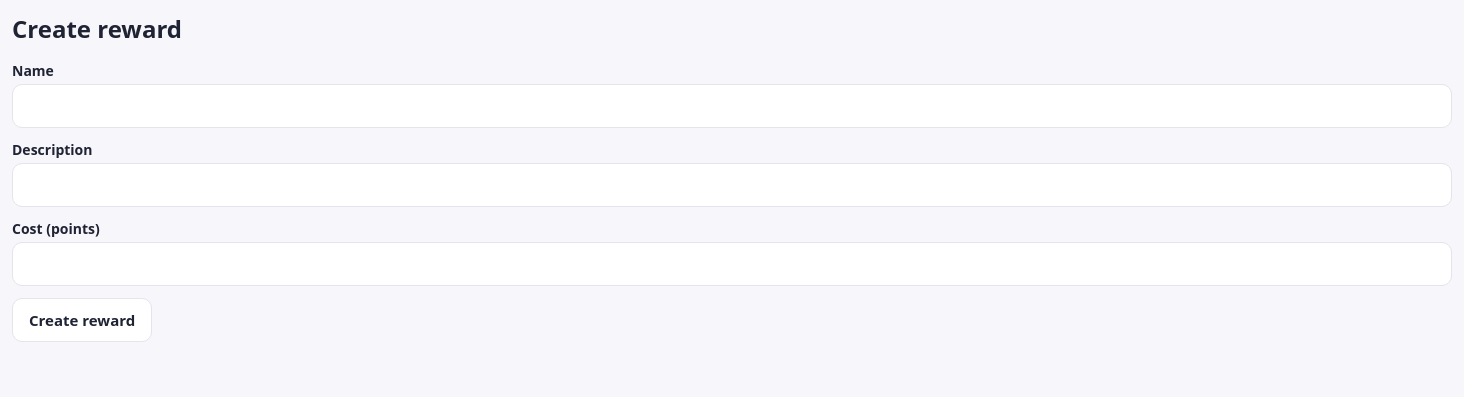
Test: NewRewardPage › requires a name before submitting
Step 1. Click the button "Create reward" → (82, 320), box [12, 298, 152, 342]
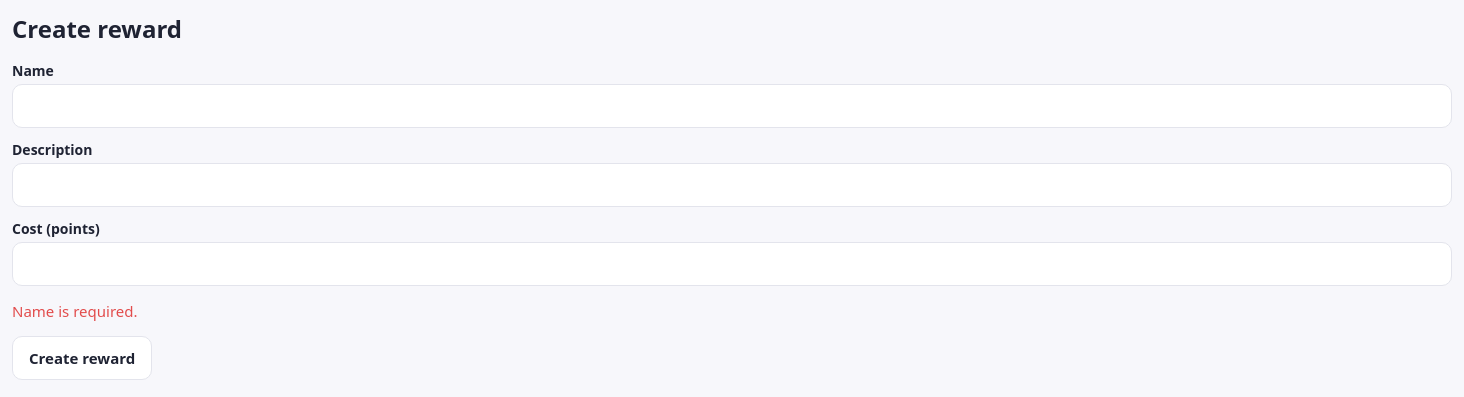
Expected: the message shows "Name is required", [12, 301, 138, 321]
